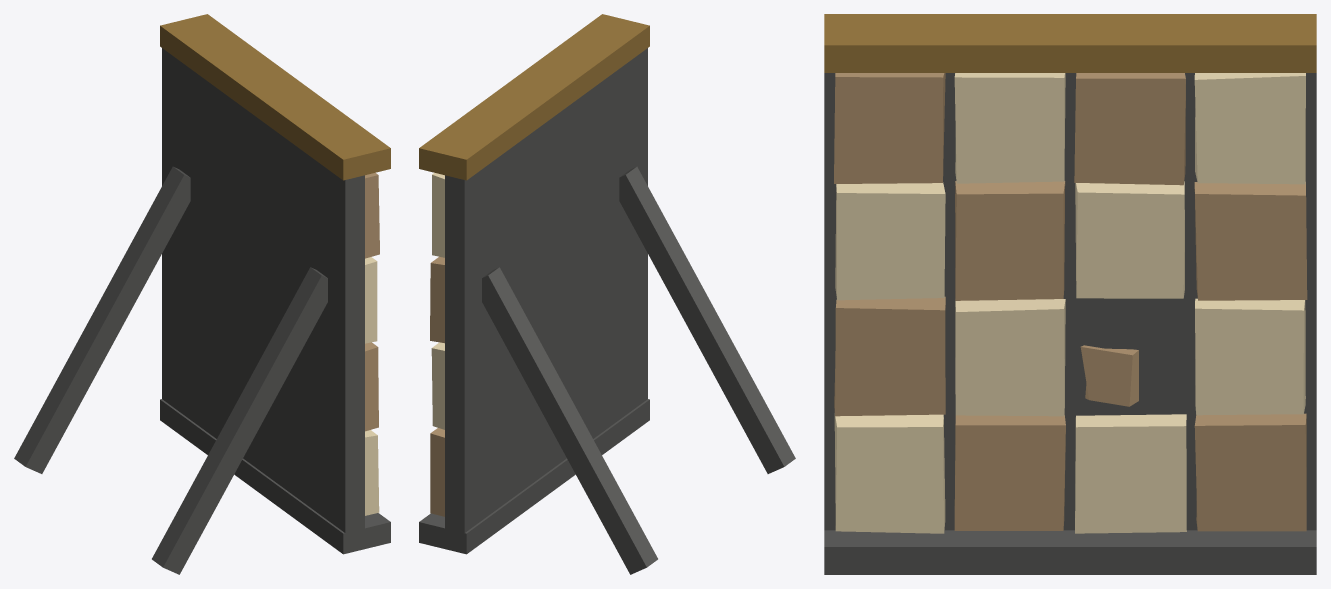
Rendered from arm_ceramic_plates.glb.
The picture shows the model from 3 angles, left to right: view 1: azimuth 30°, elevation 25°; view 2: azimuth 150°, elevation 25°; view 3: azimuth 270°, elevation 25°; orthographic projection. The views are drawn at different scales.
Parts seen in each view (by area): view 1: arm_ceramic_plates; view 2: arm_ceramic_plates; view 3: arm_ceramic_plates.
Part boxes in pixels (bbox=[...]): arm_ceramic_plates: bbox=[14, 14, 390, 574]; arm_ceramic_plates: bbox=[419, 14, 795, 574]; arm_ceramic_plates: bbox=[824, 14, 1316, 574].
Bounding box in the file's own units: 0.5309 × 0.95 × 0.8.
